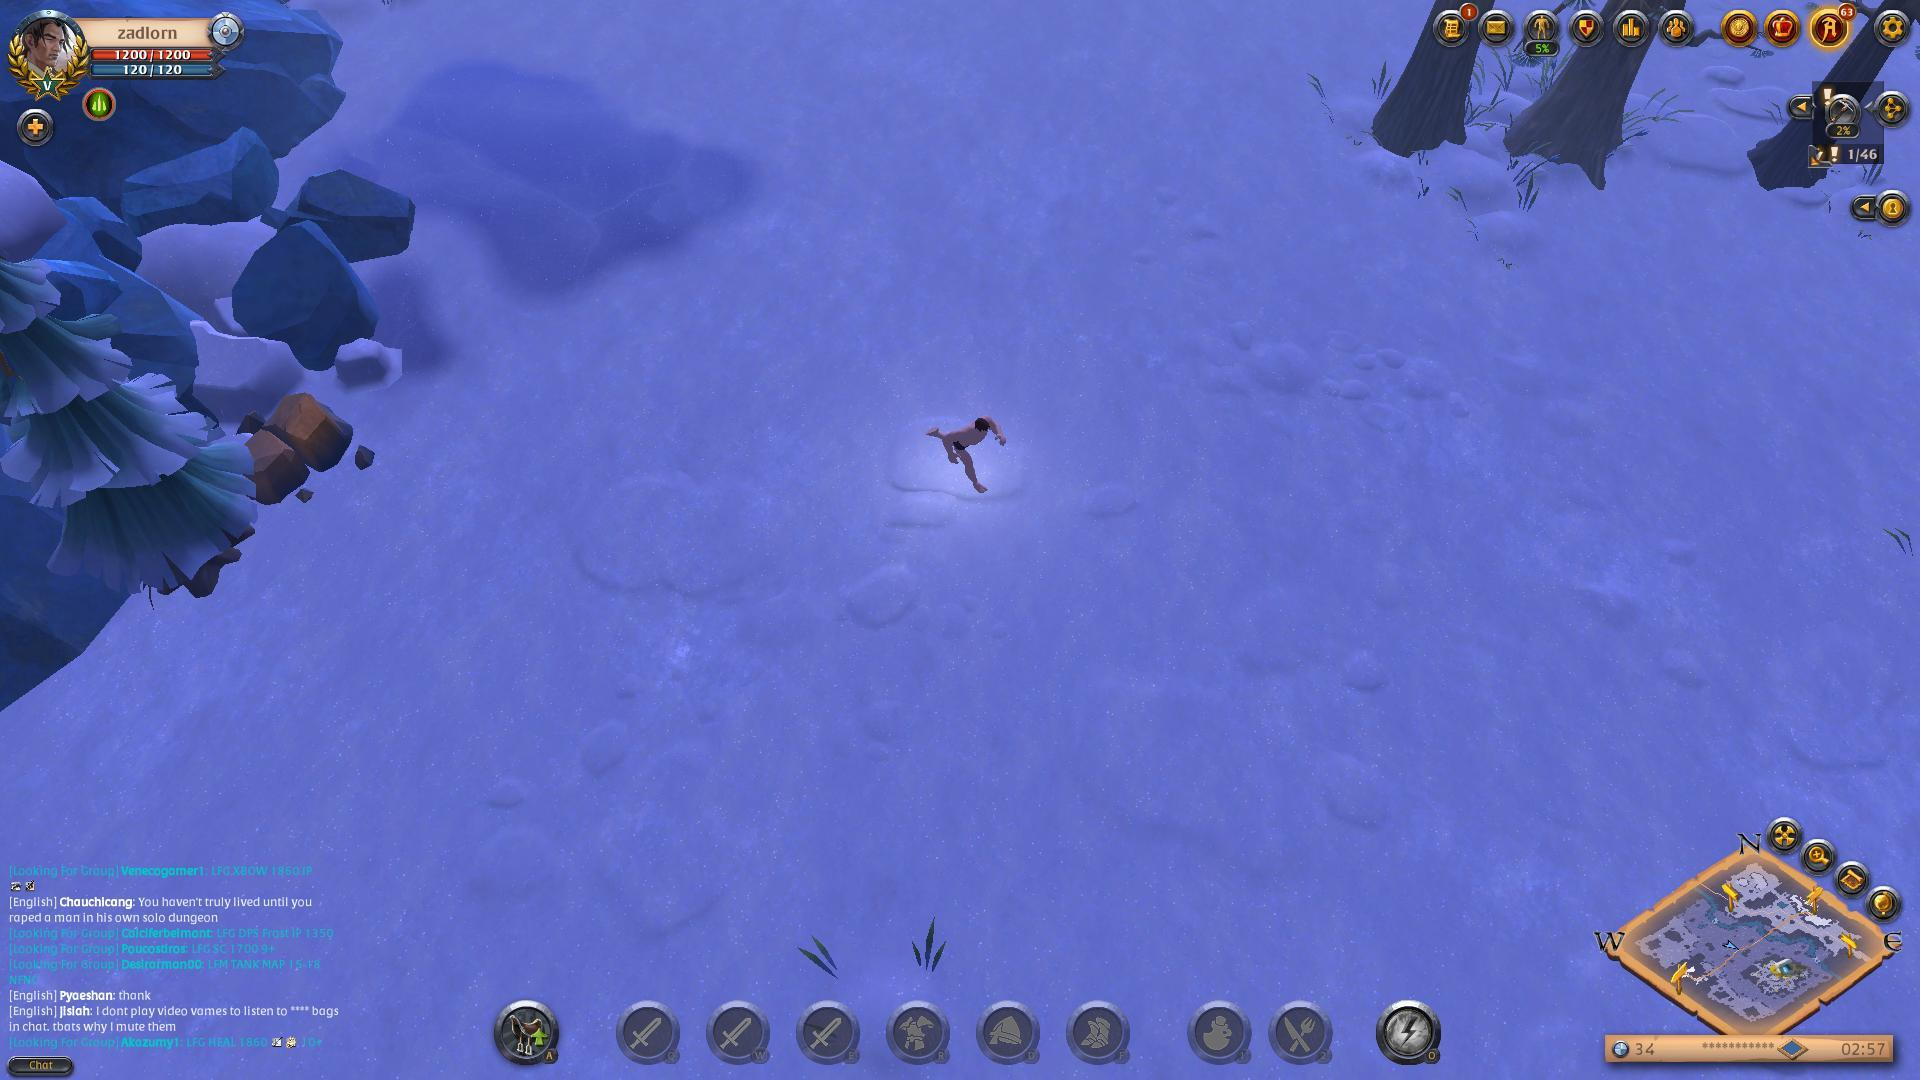limestone: (245, 381, 377, 504)
